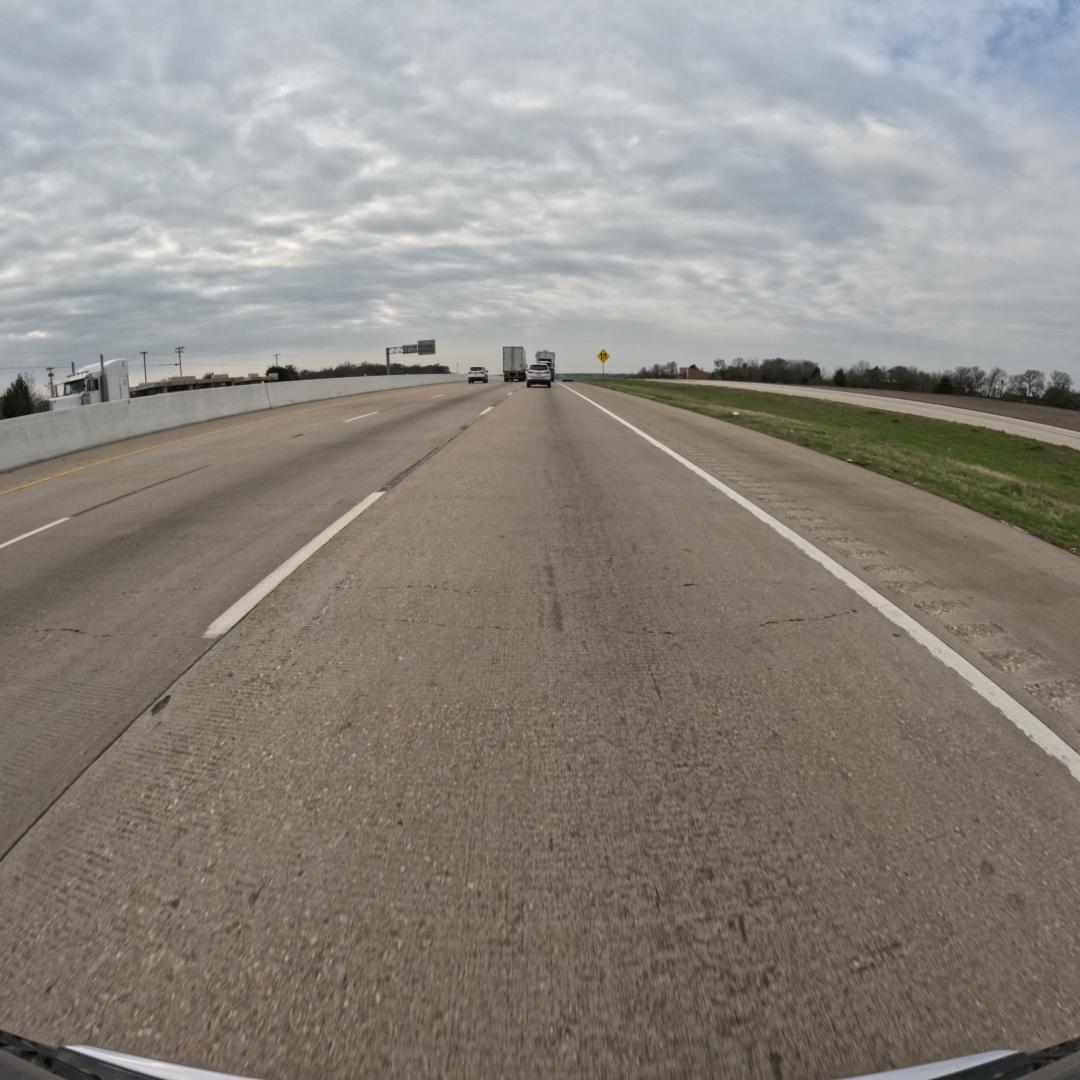lane0: (0, 385, 1080, 1077)
lane1: (0, 386, 511, 856)
